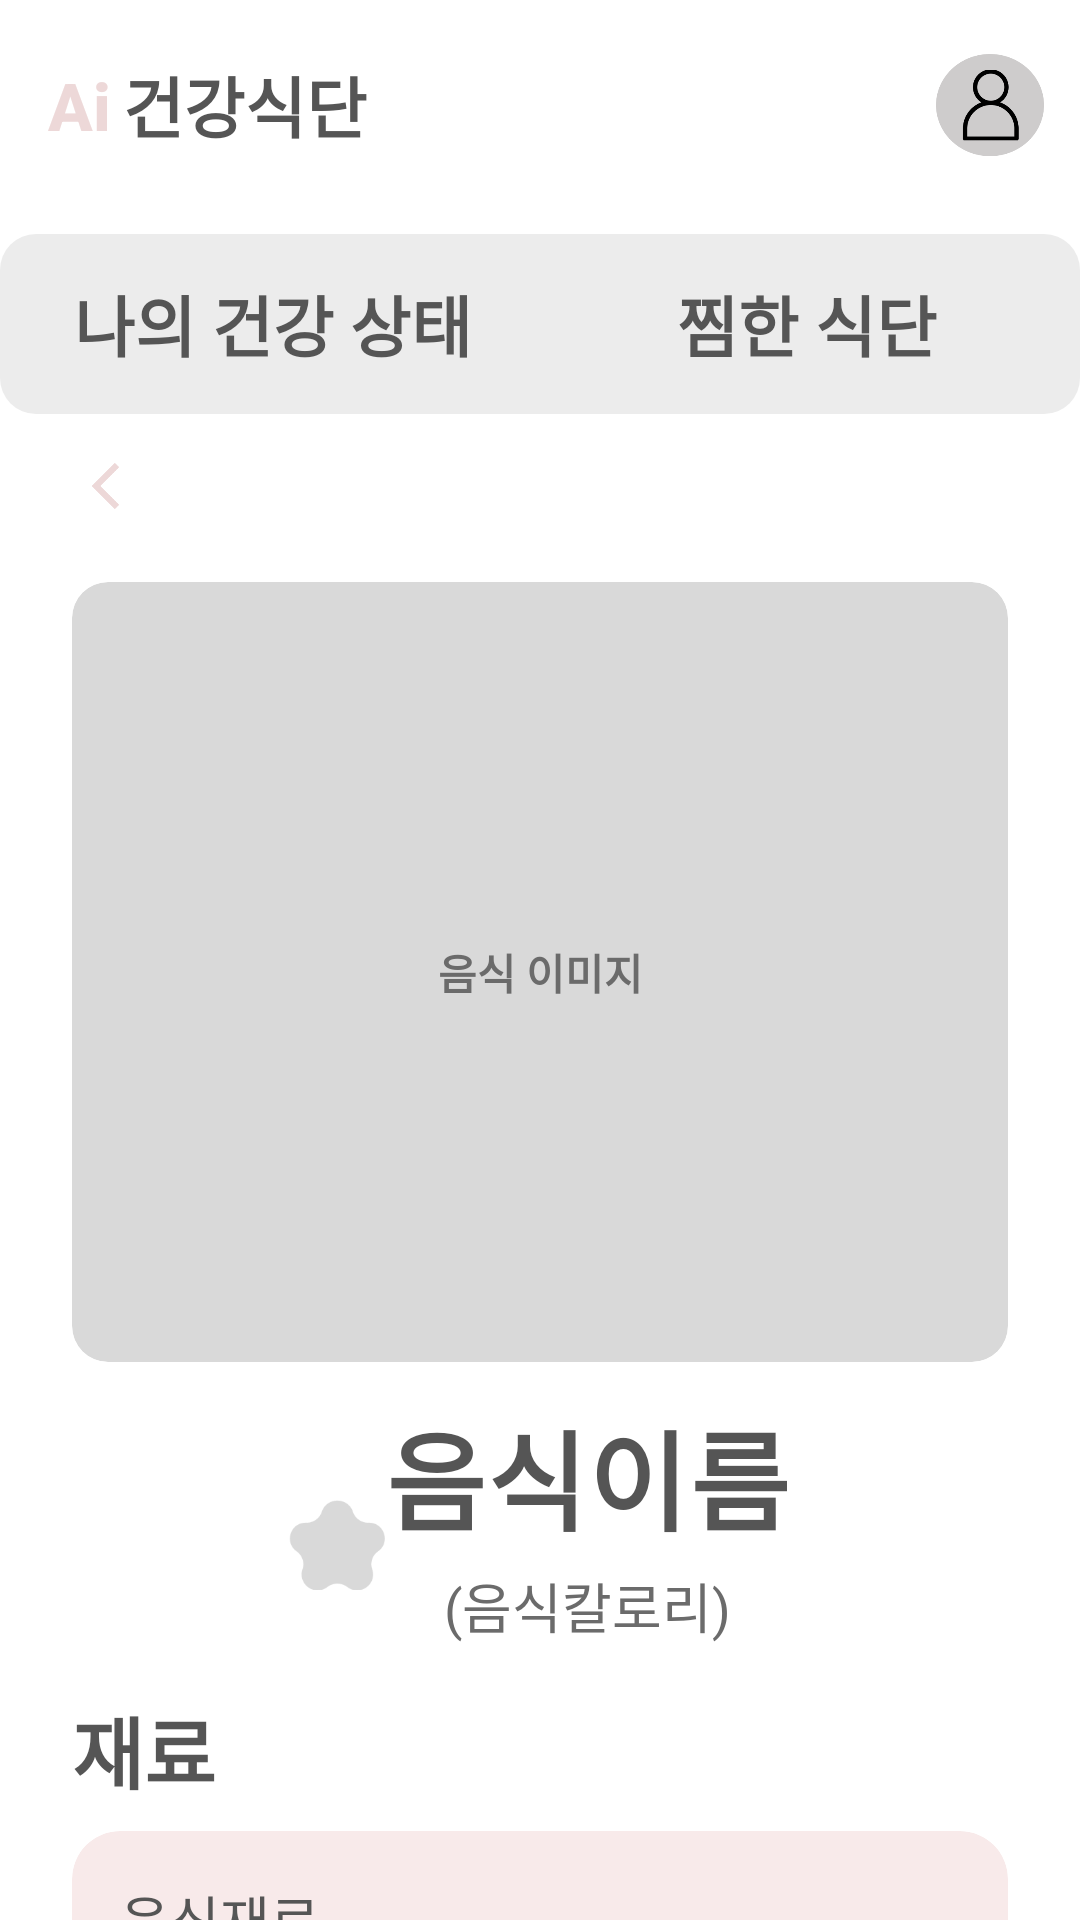

Where icons sit on this 1080px×1920px app screen, as BBox(x1, y1, x2, y2):
뒤로가기: BBox(92, 463, 119, 509)
마이페이지: BBox(936, 54, 1044, 156)
